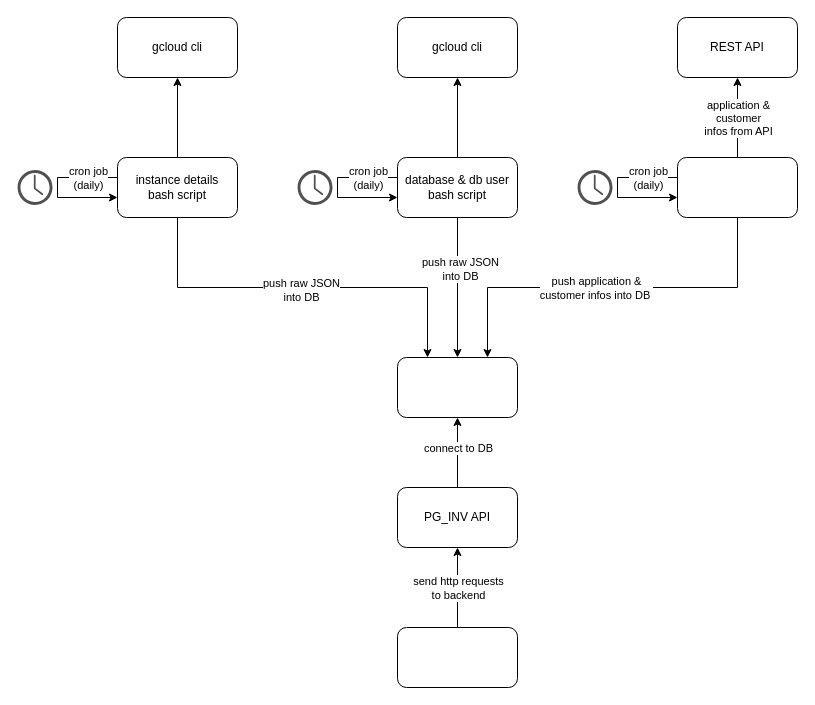
Some shapes in this 815 by 705 pixel diagram are drawn without their labels. The shapes that lost their labels are listed below. From the top down, each one's centre as x and y in pixels, then its label:
point (737, 187): app & customer infos bash script
point (457, 387): Inverntory DB (PostgreSQL)
point (457, 657): Frontend inventory dashboard
